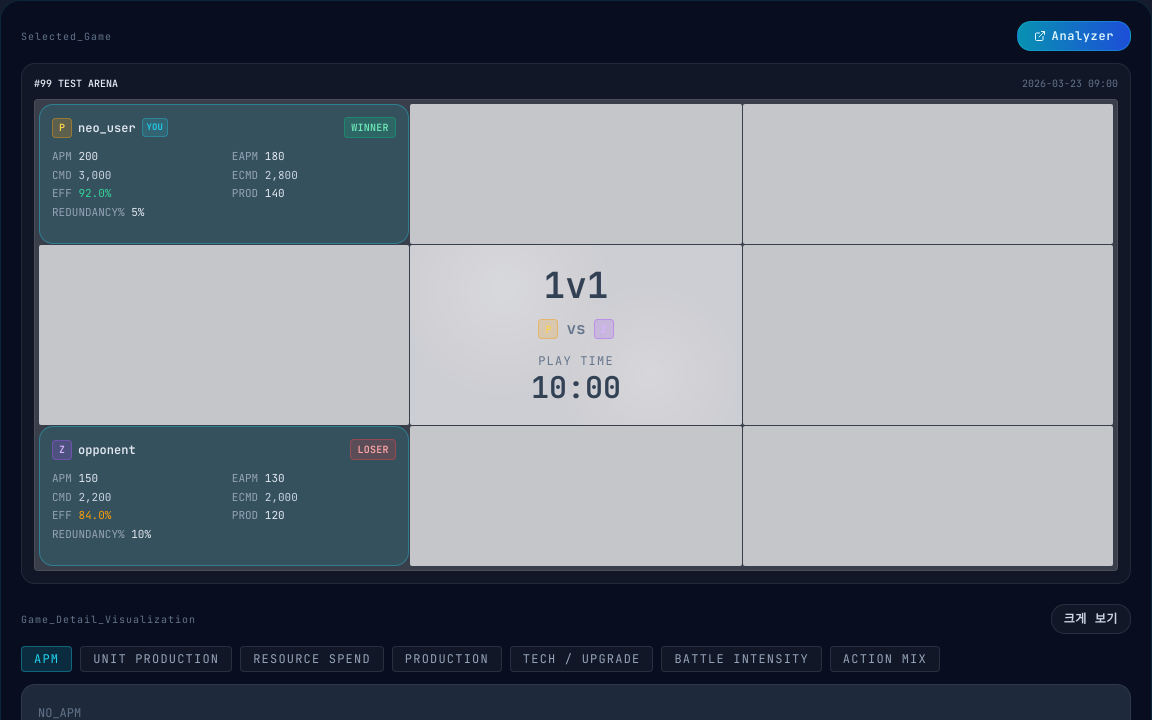
Test case: vault page › uses legacy empty states instead of synthesizing missing detail data
Click the button "Unit Production".
click(156, 659)  # box x1=80 y1=646 x2=232 y2=672
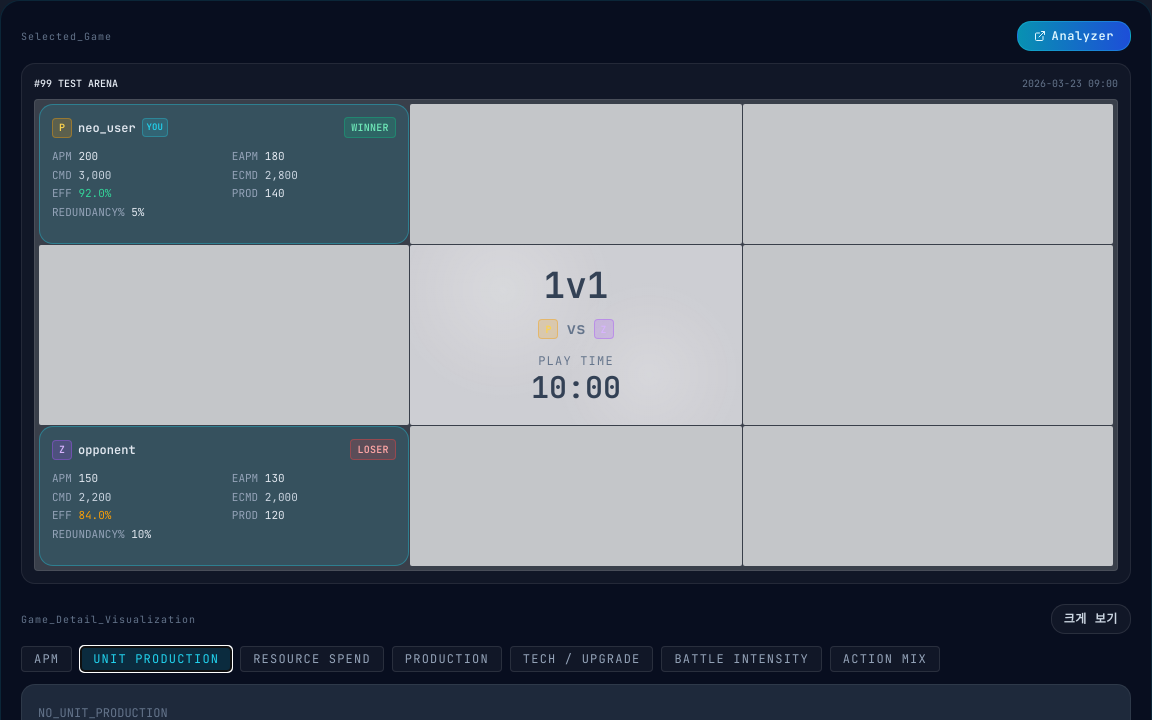
Click the button "Resource Spend".
click(312, 659)  # box x1=240 y1=646 x2=384 y2=672
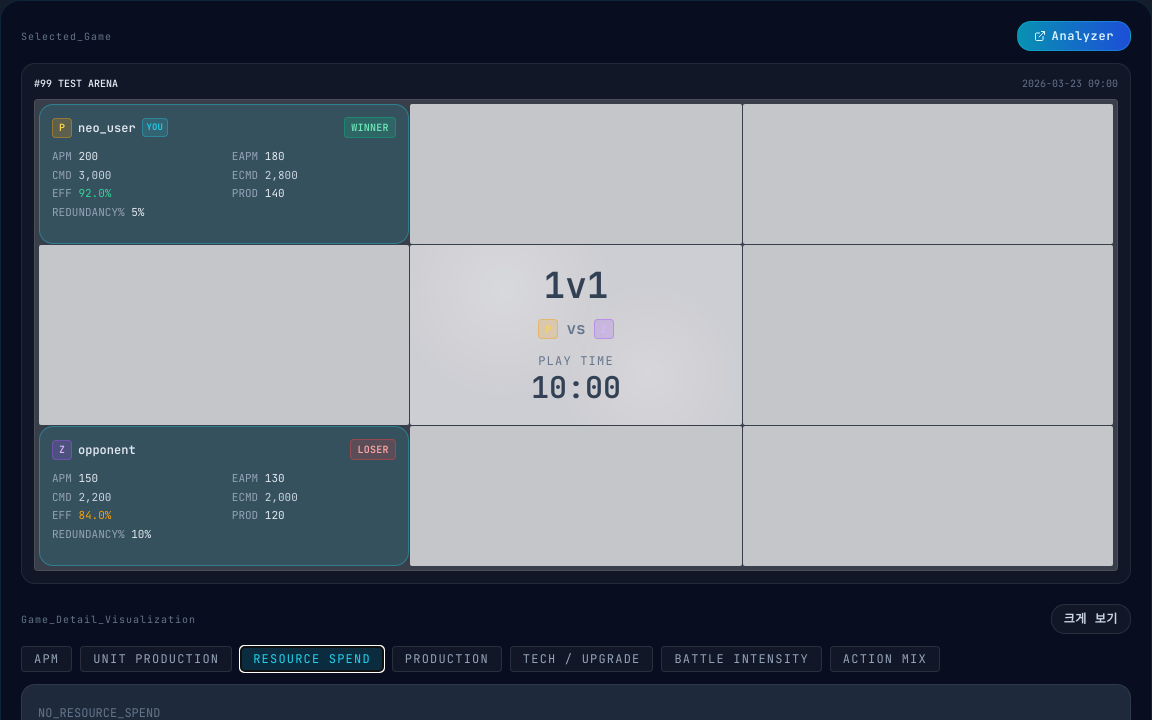
Click the button "Tech / Upgrade".
click(582, 659)  # box x1=510 y1=646 x2=653 y2=672
(page scrolled)
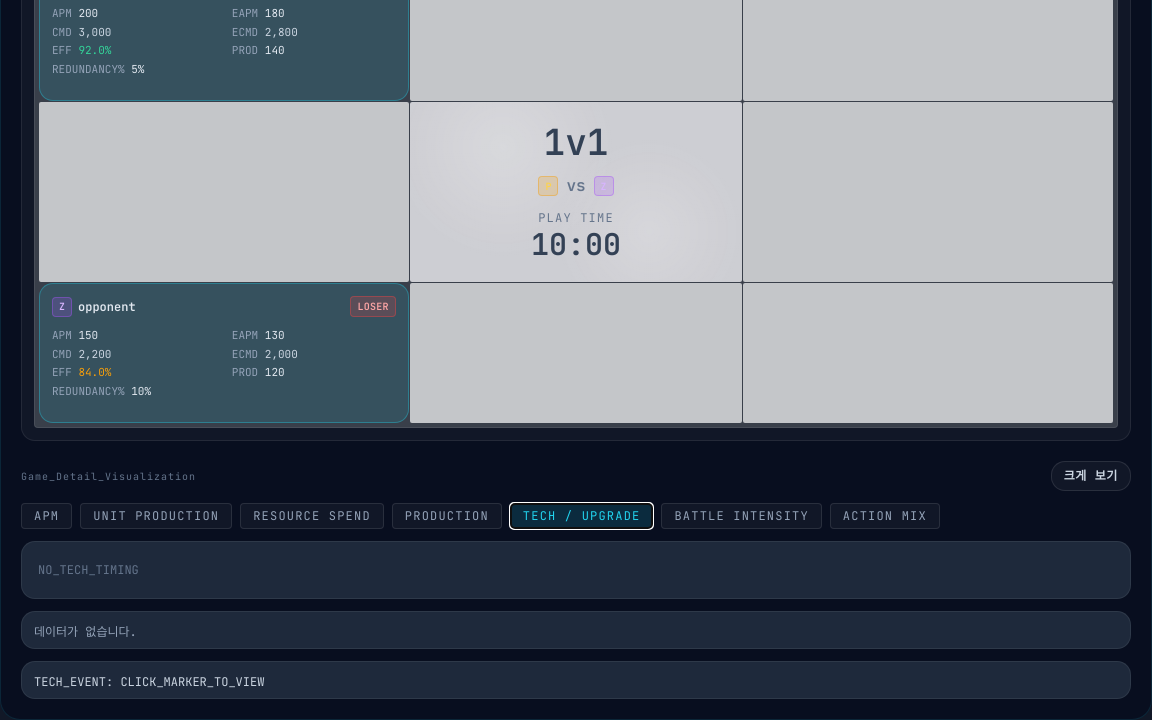
Now the text "NO_TECH_TIMING" is shown, box x1=21 y1=541 x2=1131 y2=599
